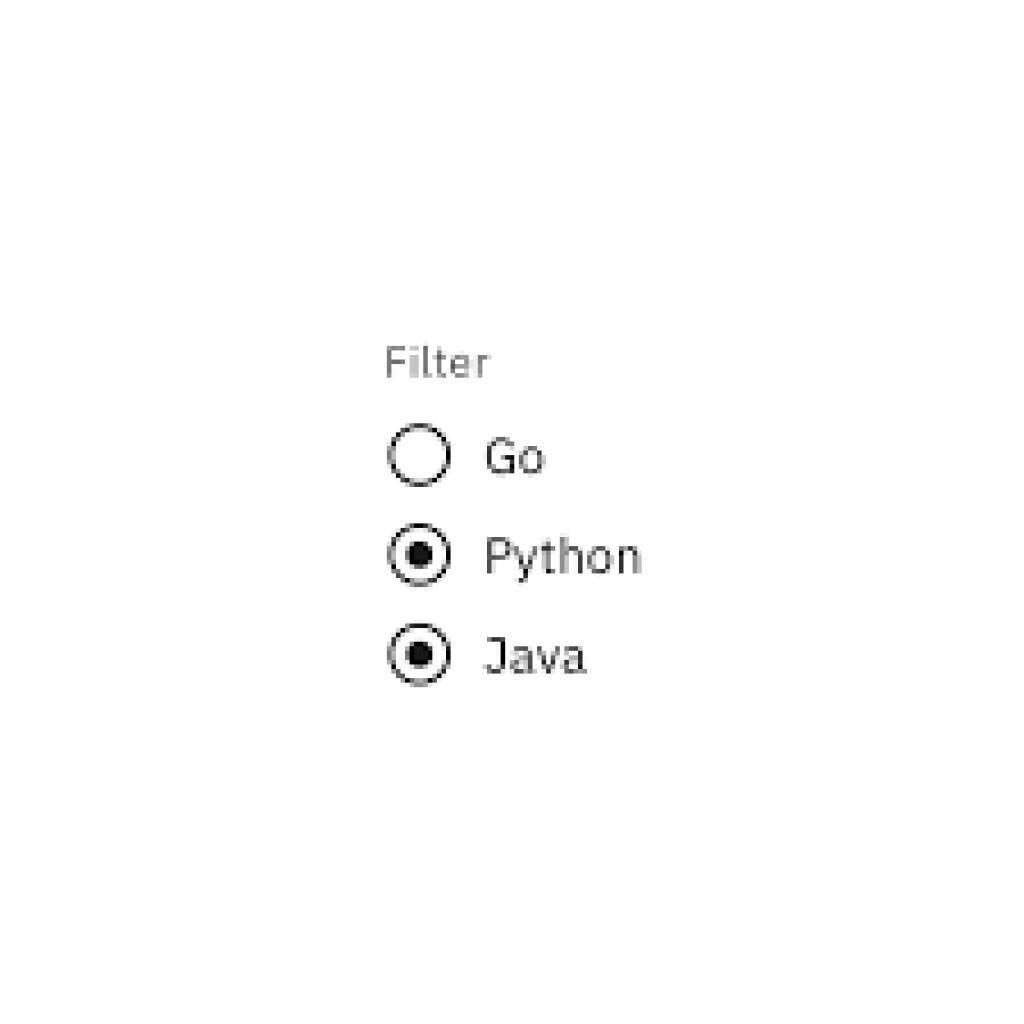radio: (383, 412, 463, 501), (379, 614, 457, 699), (379, 519, 463, 594)
